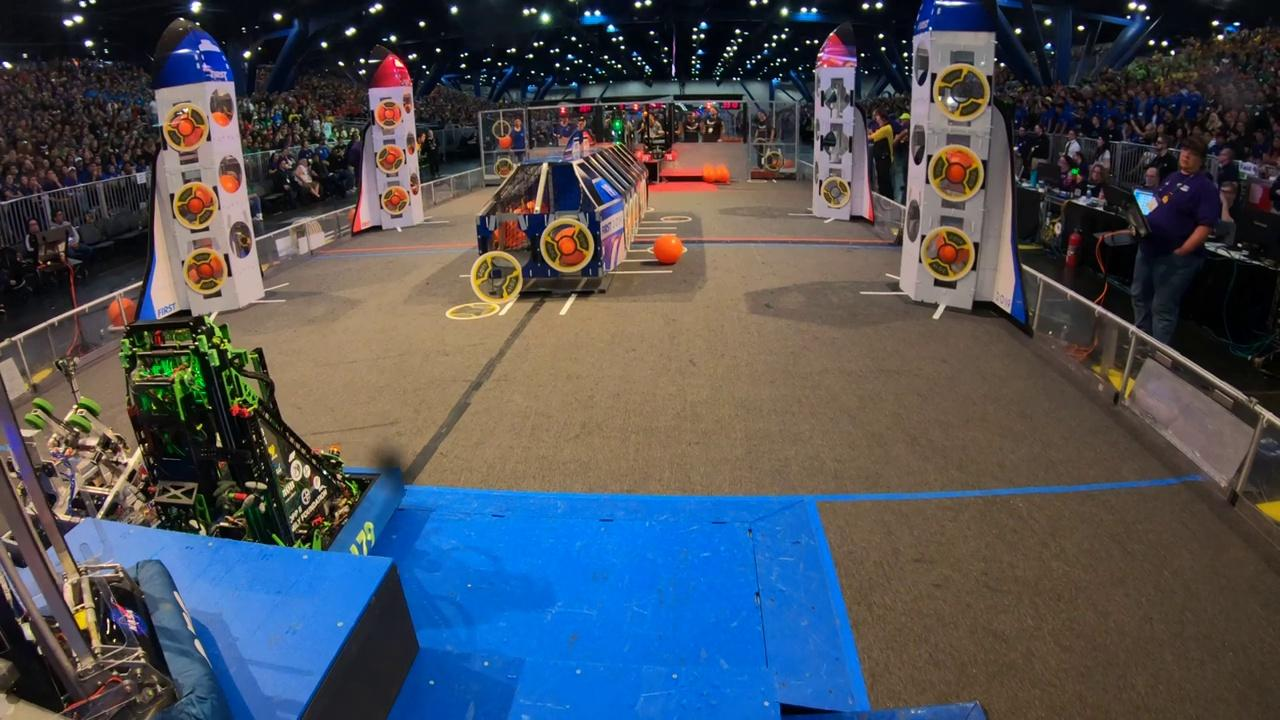robot: (89, 302, 409, 591)
